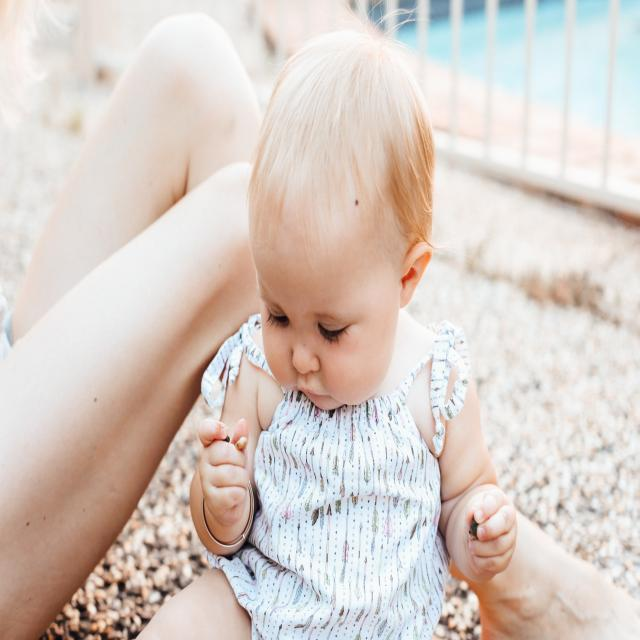non-dog: (180, 28, 511, 640), (0, 14, 262, 640)
